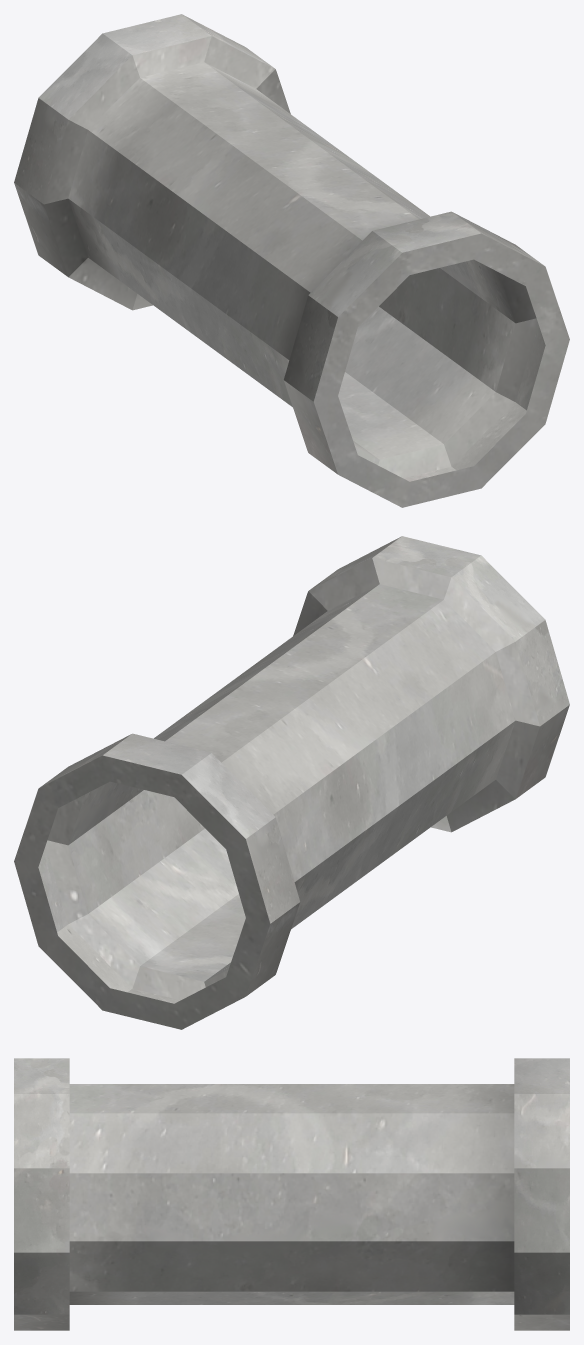
Rendered from PipeOneWay.fbx.
3 renders of one model, top to bottom at view 1: azimuth 30°, elevation 25°; view 2: azimuth 150°, elevation 25°; view 3: azimuth 270°, elevation 25°, orthographic. The views are drawn at different scales.
Parts seen in each view (by area): view 1: pCylinder3; view 2: pCylinder3; view 3: pCylinder3.
Part boxes in pixels (bbox=[...]): pCylinder3: bbox=[14, 14, 569, 507]; pCylinder3: bbox=[14, 536, 569, 1029]; pCylinder3: bbox=[14, 1058, 569, 1330].
Bounding box in the file's own units: 0.4938 × 0.4697 × 1.
